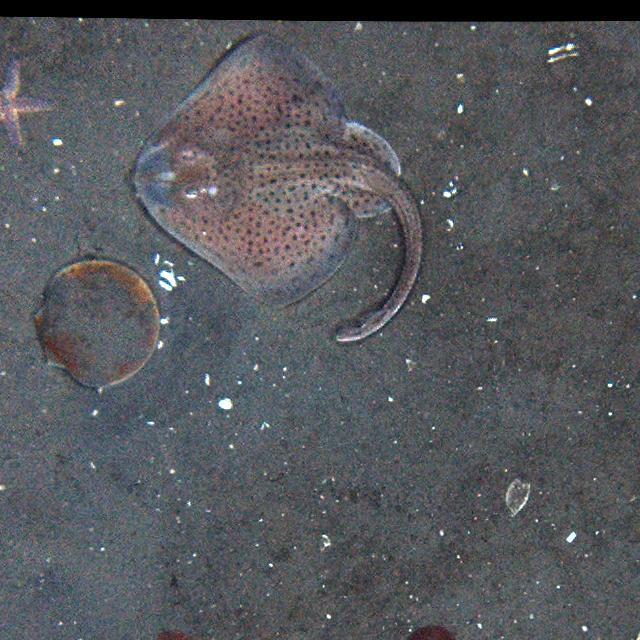skate: (130, 25, 426, 340)
